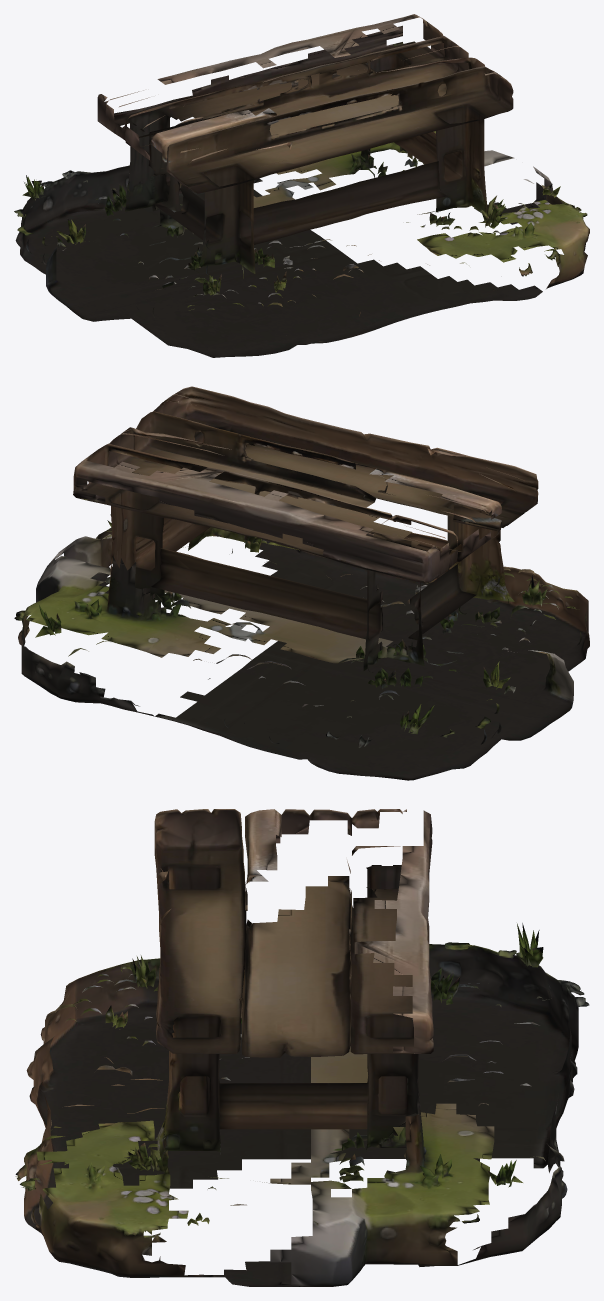
The model's file is dwarven workbench 3d model.glb.
3 renders of one model, top to bottom at view 1: azimuth 30°, elevation 25°; view 2: azimuth 150°, elevation 25°; view 3: azimuth 270°, elevation 25°, orthographic. The views are drawn at different scales.
Visible parts, largest first — view 1: tripo_node_9c1b737e-d2b0-4ec9-a815-d053a31659e7; view 2: tripo_node_9c1b737e-d2b0-4ec9-a815-d053a31659e7; view 3: tripo_node_9c1b737e-d2b0-4ec9-a815-d053a31659e7.
Boxes of the visible parts, <box> form: tripo_node_9c1b737e-d2b0-4ec9-a815-d053a31659e7: <box>14,14,589,357</box>; tripo_node_9c1b737e-d2b0-4ec9-a815-d053a31659e7: <box>14,386,589,780</box>; tripo_node_9c1b737e-d2b0-4ec9-a815-d053a31659e7: <box>15,809,589,1286</box>.
Size of the model in its own units: 0.979 by 0.3468 by 0.7836.
1 material, 1 textured.
